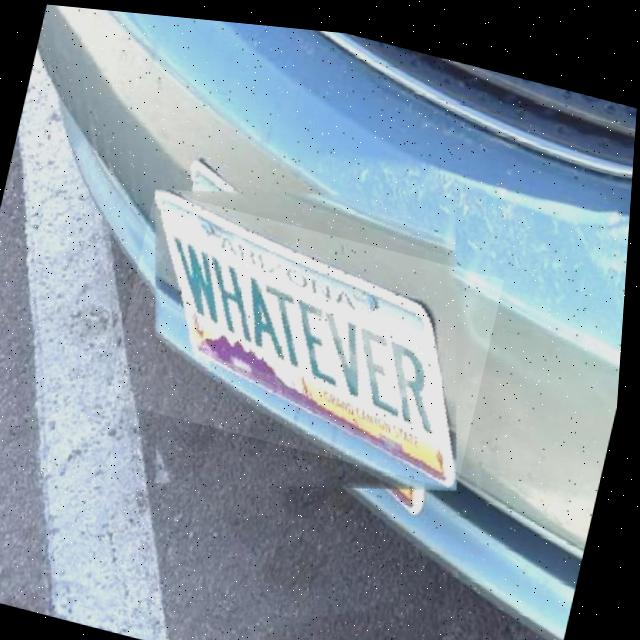LicensePlate: (158, 187, 463, 480)
